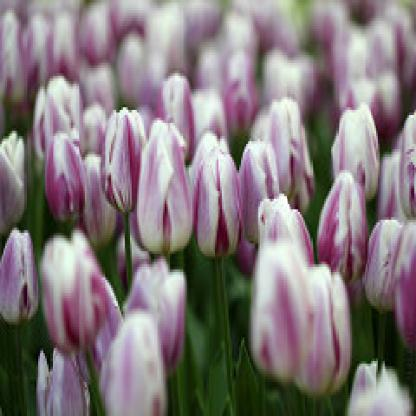TULIP: (8, 17, 405, 404)
